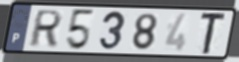3: (97, 10, 128, 52)
4: (163, 12, 190, 54)
5: (63, 9, 97, 52)
8: (131, 12, 161, 51)
R: (27, 9, 65, 48)
T: (199, 11, 229, 56)
